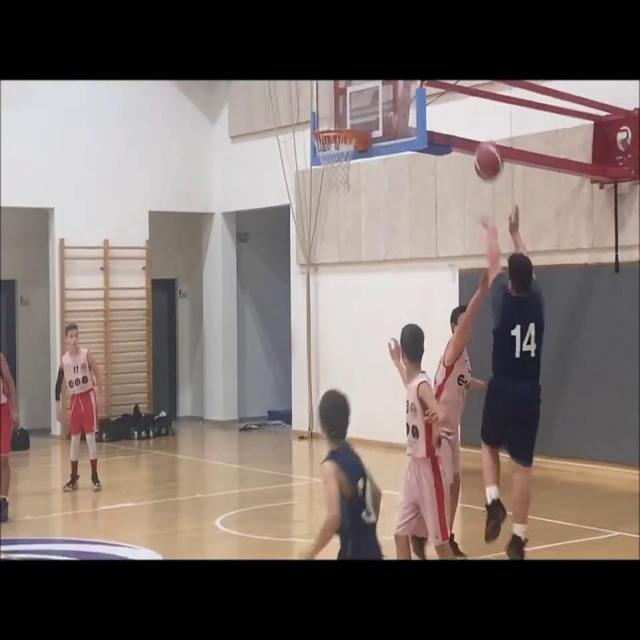basketball: (474, 138, 504, 182)
hoop: (310, 125, 362, 200)
